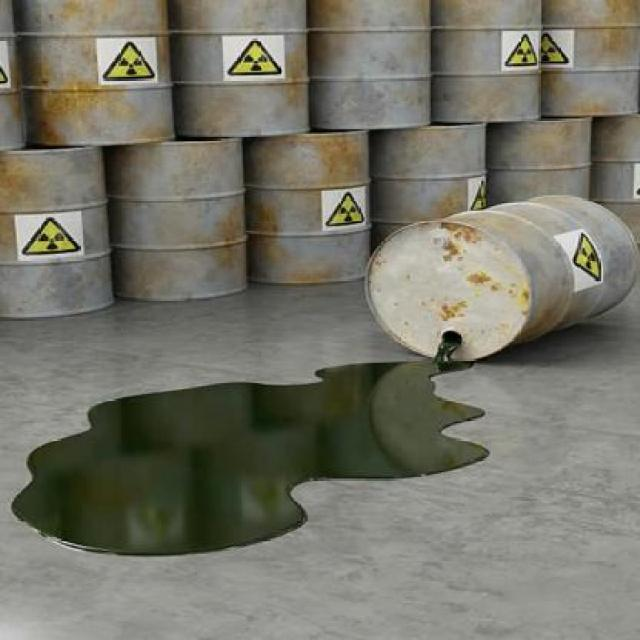spillage: (11, 358, 490, 560)
